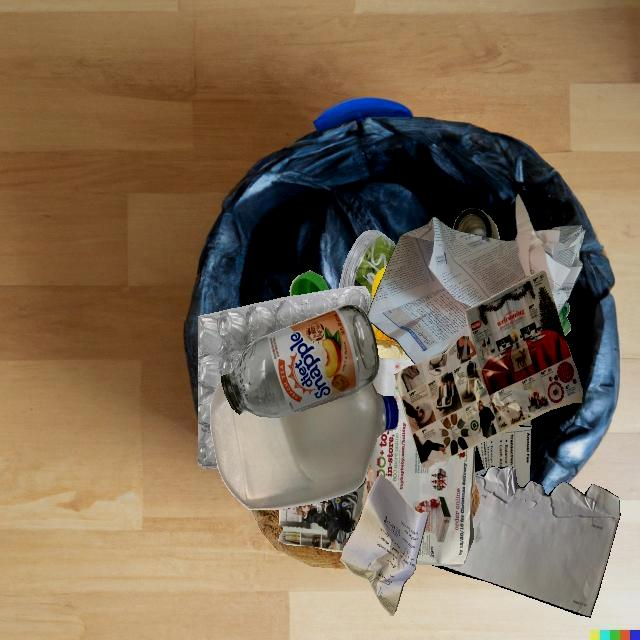biowaste: (348, 359, 475, 569), (372, 264, 388, 302), (371, 323, 397, 342)
glass: (221, 304, 380, 418), (453, 208, 499, 240)
paper: (279, 357, 475, 567), (394, 270, 582, 468), (367, 194, 585, 364), (433, 466, 620, 617), (340, 473, 429, 616), (477, 425, 531, 487), (517, 419, 532, 427)
plastic: (198, 286, 370, 468), (210, 380, 399, 509), (340, 230, 396, 306), (289, 270, 329, 296), (558, 302, 571, 337), (474, 469, 485, 475)
